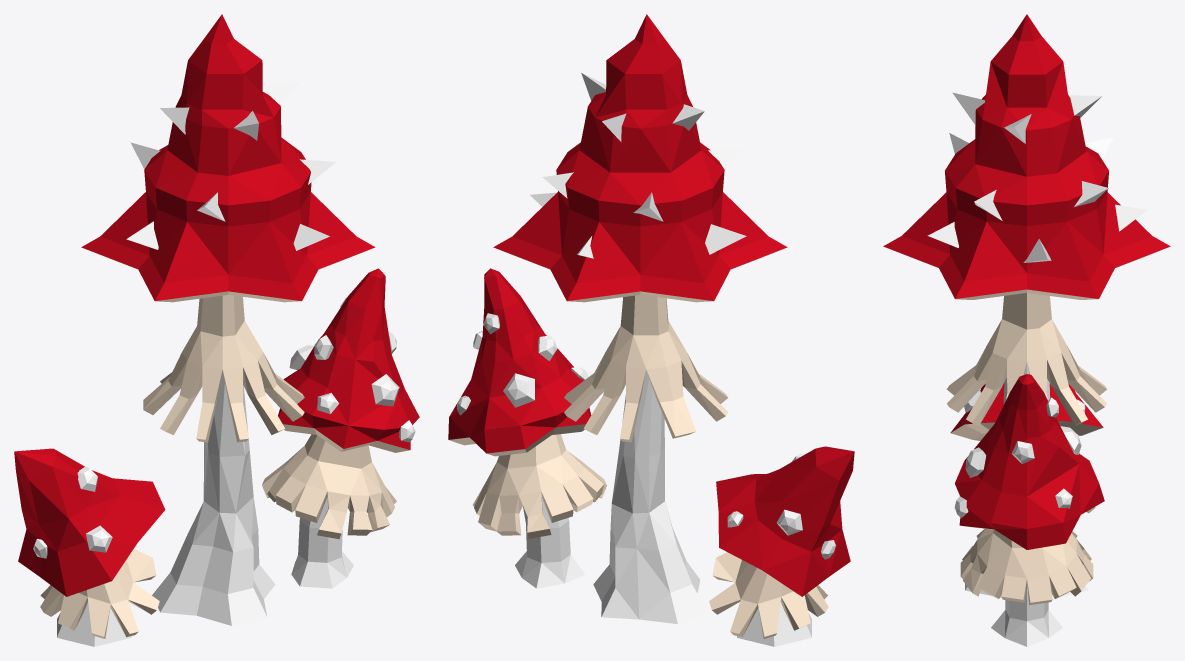
The model's file is _mashroom_2.glb.
The picture shows the model from 3 angles, left to right: view 1: azimuth 30°, elevation 25°; view 2: azimuth 150°, elevation 25°; view 3: azimuth 270°, elevation 25°; orthographic projection. The views are drawn at different scales.
Parts seen in each view (by area): view 1: mashroom_2; view 2: mashroom_2; view 3: mashroom_2.
Boxes of the visible parts, left/top/right/bottom form: mashroom_2: left=14, top=14, right=419, bottom=646; mashroom_2: left=448, top=14, right=854, bottom=646; mashroom_2: left=883, top=14, right=1170, bottom=646.
Bounding box in the file's own units: 0.7849 × 1.11 × 0.5066.
Materials: 1 (1 with a texture image).
